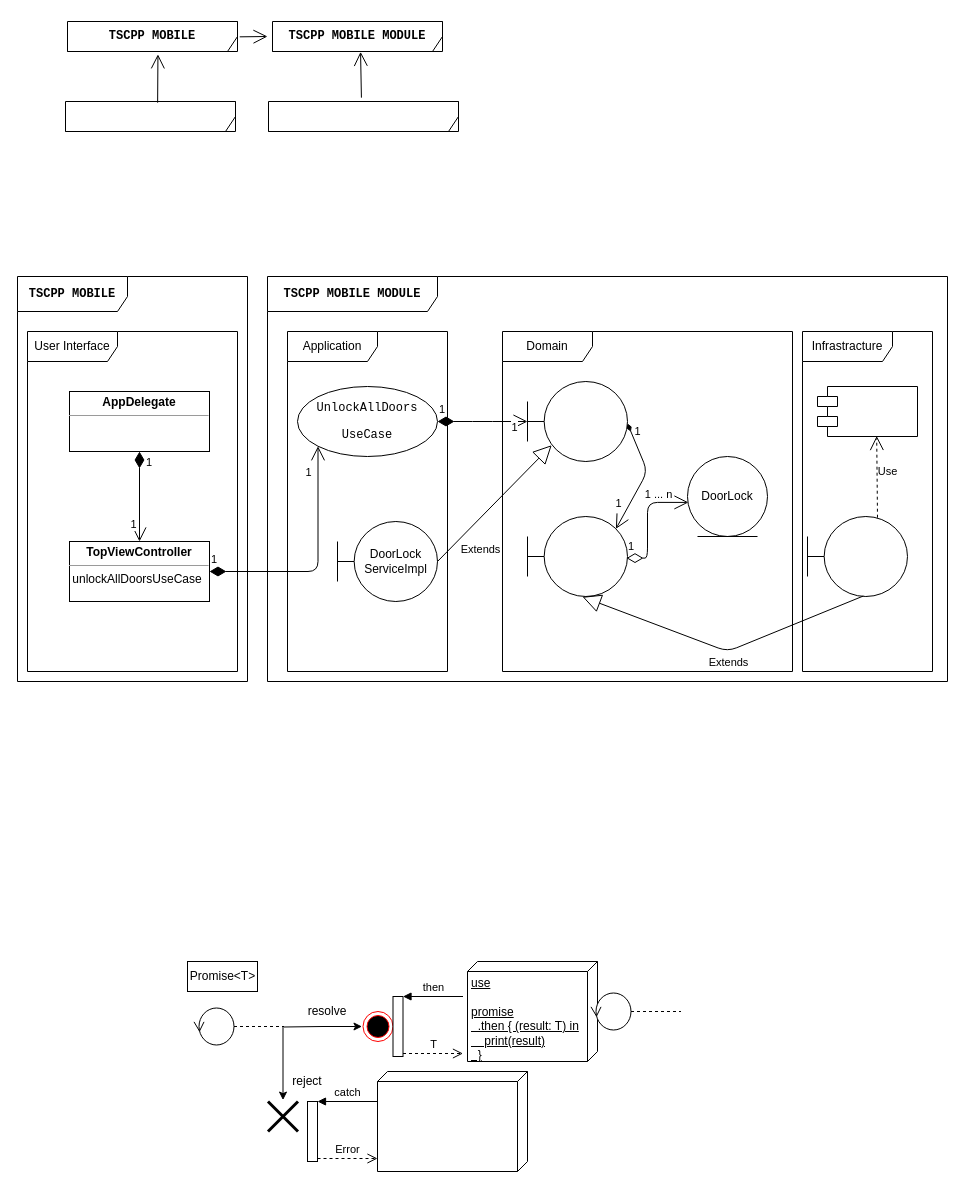
Some shapes in this 965 by 1189 pixel diagram are drawn without their labels. The centre of each missing label's shape, as x and y in pixels:
DoorLock Repository: the point at 577,556
DoorLock RepositoryImpl: the point at 857,556
DoorLock Request: the point at 867,411
DoorLock Service: the point at 577,421
TSCPP MOBILE NOTIFICATION: the point at 363,116
TSCPP MOBILE Tests: the point at 150,116
use promise .catch { (error: Error) in print(error) }: the point at 452,1121
